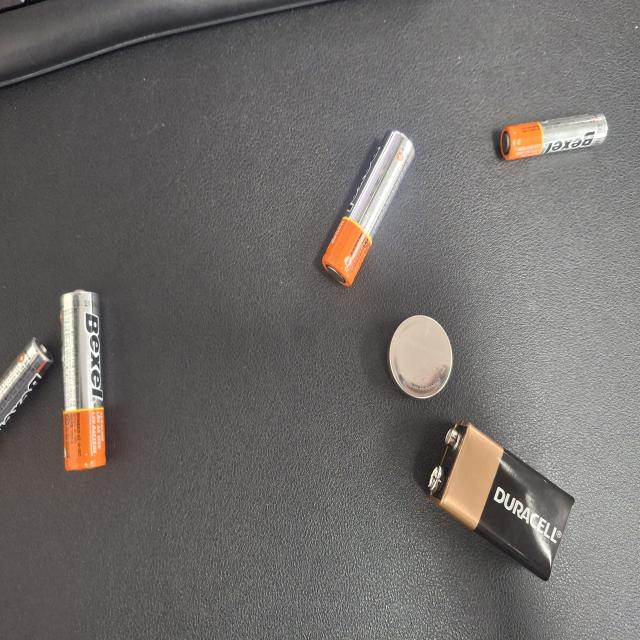9V: (317, 88, 435, 278)
AA: (100, 302, 214, 422)
AAA: (81, 41, 121, 188)
COIN: (235, 250, 301, 336)
